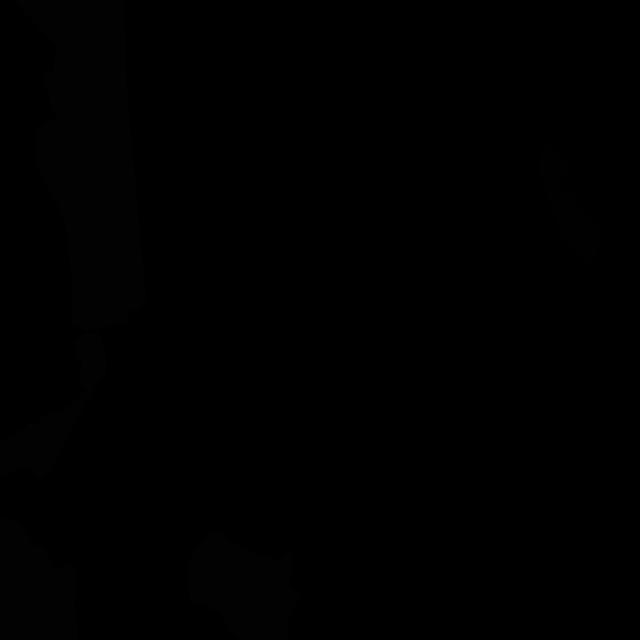cardboard: (13, 0, 146, 330), (0, 332, 107, 481), (186, 531, 300, 640), (0, 517, 78, 640)
rigid_plastic: (538, 140, 600, 266)
